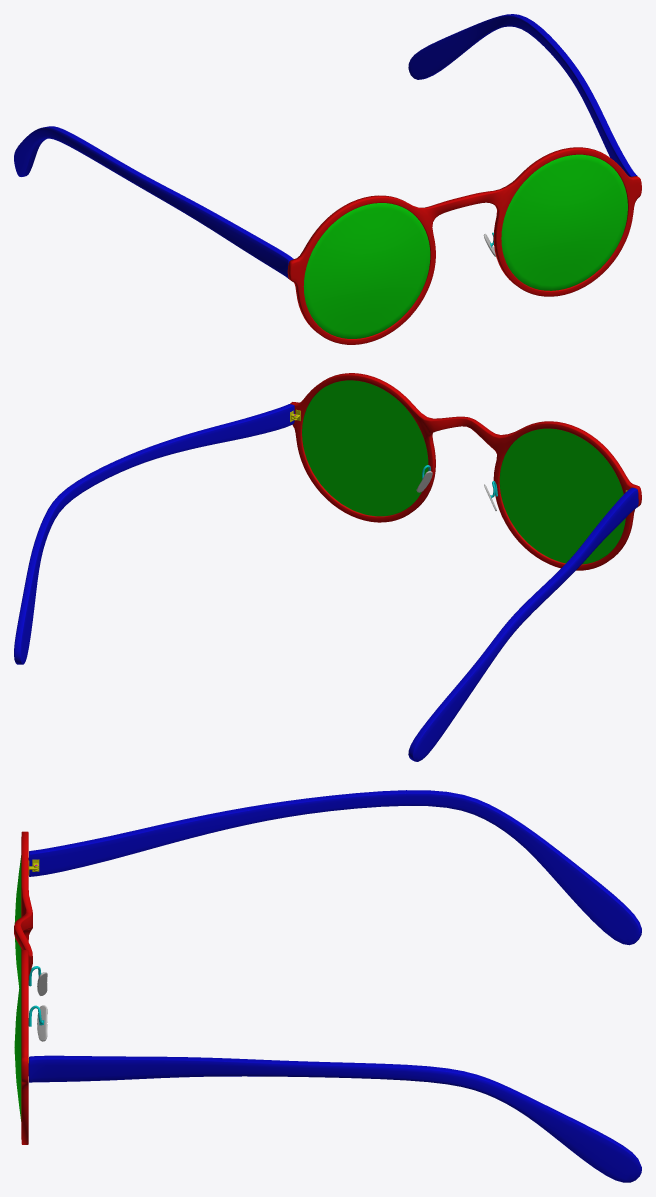
File: round_spectacles.fbx
3 renders of one model, top to bottom at view 1: azimuth 30°, elevation 25°; view 2: azimuth 150°, elevation 25°; view 3: azimuth 270°, elevation 25°, orthographic. The views are drawn at different scales.
Visible parts, largest first — view 1: round_spectacles.001; view 2: round_spectacles.001; view 3: round_spectacles.001.
Boxes of the visible parts, box(x1,y1,x2,y2) form: round_spectacles.001: box(14, 14, 641, 344); round_spectacles.001: box(14, 373, 641, 761); round_spectacles.001: box(14, 790, 641, 1182).
Bounding box in the file's own units: 15.78 × 4.63 × 14.9.
